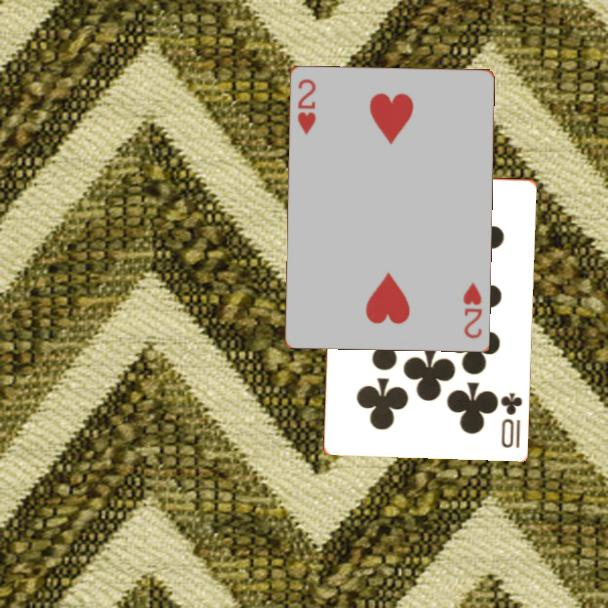c10: (497, 389, 525, 450)
h02: (459, 278, 484, 341), (294, 75, 319, 137)
